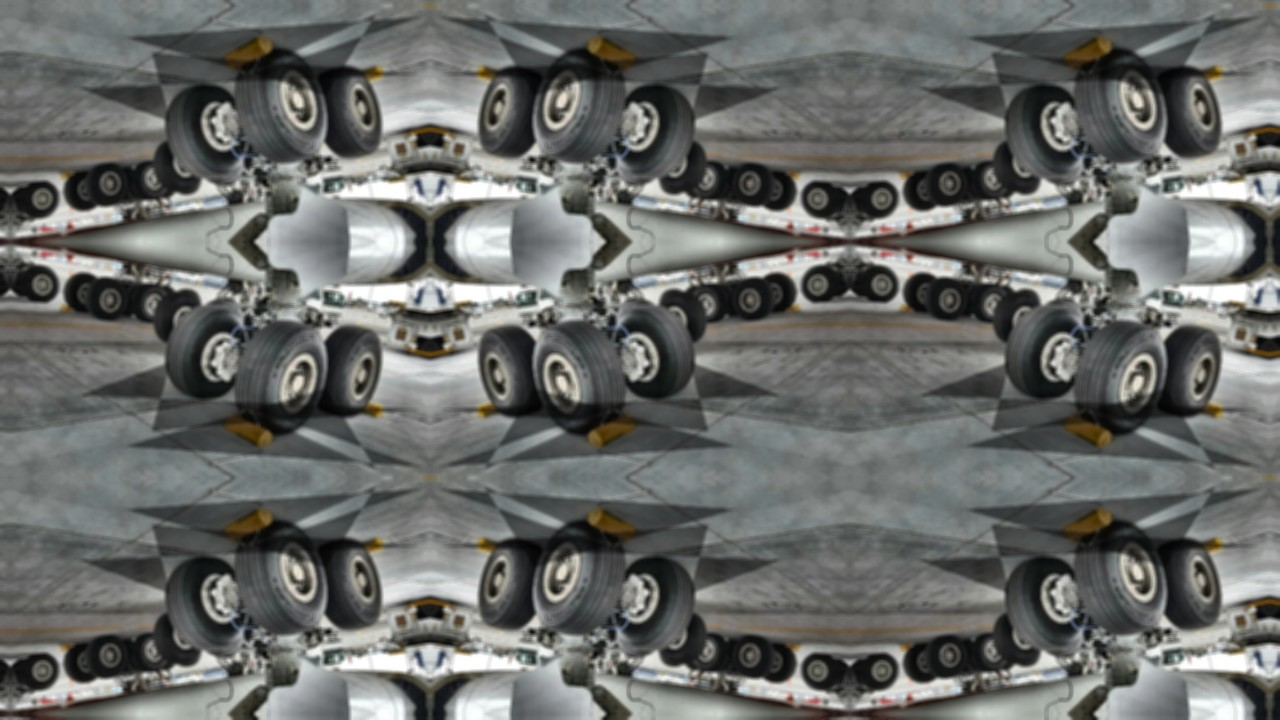chock: (221, 35, 278, 72), (582, 35, 639, 72), (1061, 35, 1118, 72), (221, 412, 278, 448), (582, 412, 639, 448), (1061, 412, 1118, 448), (221, 508, 278, 544), (582, 508, 639, 544), (1061, 508, 1118, 544), (341, 65, 386, 87), (474, 65, 519, 87), (1181, 65, 1226, 87), (341, 397, 386, 419), (474, 397, 519, 419), (1181, 397, 1226, 419), (341, 537, 386, 559), (474, 537, 519, 559), (1181, 537, 1226, 559), (57, 170, 74, 180), (786, 170, 803, 180), (897, 170, 914, 180), (57, 304, 74, 313), (786, 304, 803, 313), (897, 304, 914, 313), (57, 643, 74, 652), (786, 643, 803, 652), (897, 643, 914, 652)
wheel: (226, 45, 334, 172), (526, 45, 634, 172), (1066, 45, 1174, 172), (226, 311, 334, 438), (526, 311, 634, 438), (1066, 311, 1174, 438), (226, 518, 334, 645), (526, 518, 634, 645), (1066, 518, 1174, 645), (160, 295, 252, 405), (608, 295, 700, 405), (1000, 295, 1092, 405), (160, 551, 252, 661), (608, 551, 700, 661), (1000, 551, 1092, 661), (160, 79, 252, 188), (608, 79, 700, 188), (1000, 79, 1092, 188), (311, 62, 388, 163), (472, 62, 549, 163), (1151, 62, 1228, 163), (311, 320, 388, 421), (472, 320, 549, 421), (1151, 320, 1228, 421), (311, 535, 388, 636), (472, 535, 549, 636), (1151, 535, 1228, 636), (150, 284, 205, 346), (655, 284, 710, 346), (990, 284, 1045, 346), (150, 610, 205, 672), (655, 610, 710, 672), (990, 610, 1045, 672), (150, 138, 205, 199), (655, 138, 710, 199), (990, 138, 1045, 199), (82, 160, 131, 210), (729, 160, 778, 210), (922, 160, 971, 210), (82, 274, 131, 323), (729, 274, 778, 323), (922, 274, 971, 323), (82, 633, 131, 682), (729, 633, 778, 682), (922, 633, 971, 682), (15, 261, 63, 305), (797, 261, 845, 305), (855, 261, 903, 305), (15, 651, 63, 695), (797, 651, 845, 695), (855, 651, 903, 695), (15, 179, 63, 222), (797, 179, 845, 222), (855, 179, 903, 222), (59, 169, 99, 215), (761, 169, 801, 215), (899, 169, 939, 215), (59, 268, 99, 314), (761, 268, 801, 314), (899, 268, 939, 314), (59, 642, 99, 688), (761, 642, 801, 688), (899, 642, 939, 688), (129, 280, 168, 325), (692, 280, 731, 325), (969, 280, 1008, 325), (129, 631, 168, 676), (692, 631, 731, 676), (969, 631, 1008, 676), (129, 159, 168, 203), (692, 159, 731, 203), (969, 159, 1008, 203), (116, 166, 143, 206), (717, 166, 744, 206), (956, 166, 983, 206), (116, 278, 143, 317), (717, 278, 744, 317), (956, 278, 983, 317), (116, 639, 143, 678), (717, 639, 744, 678), (956, 639, 983, 678), (204, 164, 245, 188), (615, 164, 656, 188), (1044, 164, 1085, 188), (204, 295, 245, 319), (615, 295, 656, 319), (1044, 295, 1085, 319), (204, 637, 245, 661), (615, 637, 656, 661), (1044, 637, 1085, 661), (174, 286, 203, 305), (657, 286, 686, 305), (1014, 286, 1043, 305), (174, 651, 203, 670), (657, 651, 686, 670), (1014, 651, 1043, 670), (174, 179, 203, 197), (657, 179, 686, 197), (1014, 179, 1043, 197), (417, 122, 430, 146), (430, 122, 443, 146), (1257, 122, 1270, 146), (417, 338, 430, 362), (430, 338, 443, 362), (1257, 338, 1270, 362), (417, 594, 430, 618), (430, 594, 443, 618), (1257, 594, 1270, 618), (1270, 122, 1280, 146), (1270, 338, 1280, 362), (1270, 594, 1280, 618), (0, 261, 5, 305), (0, 651, 5, 695), (0, 179, 5, 222)
